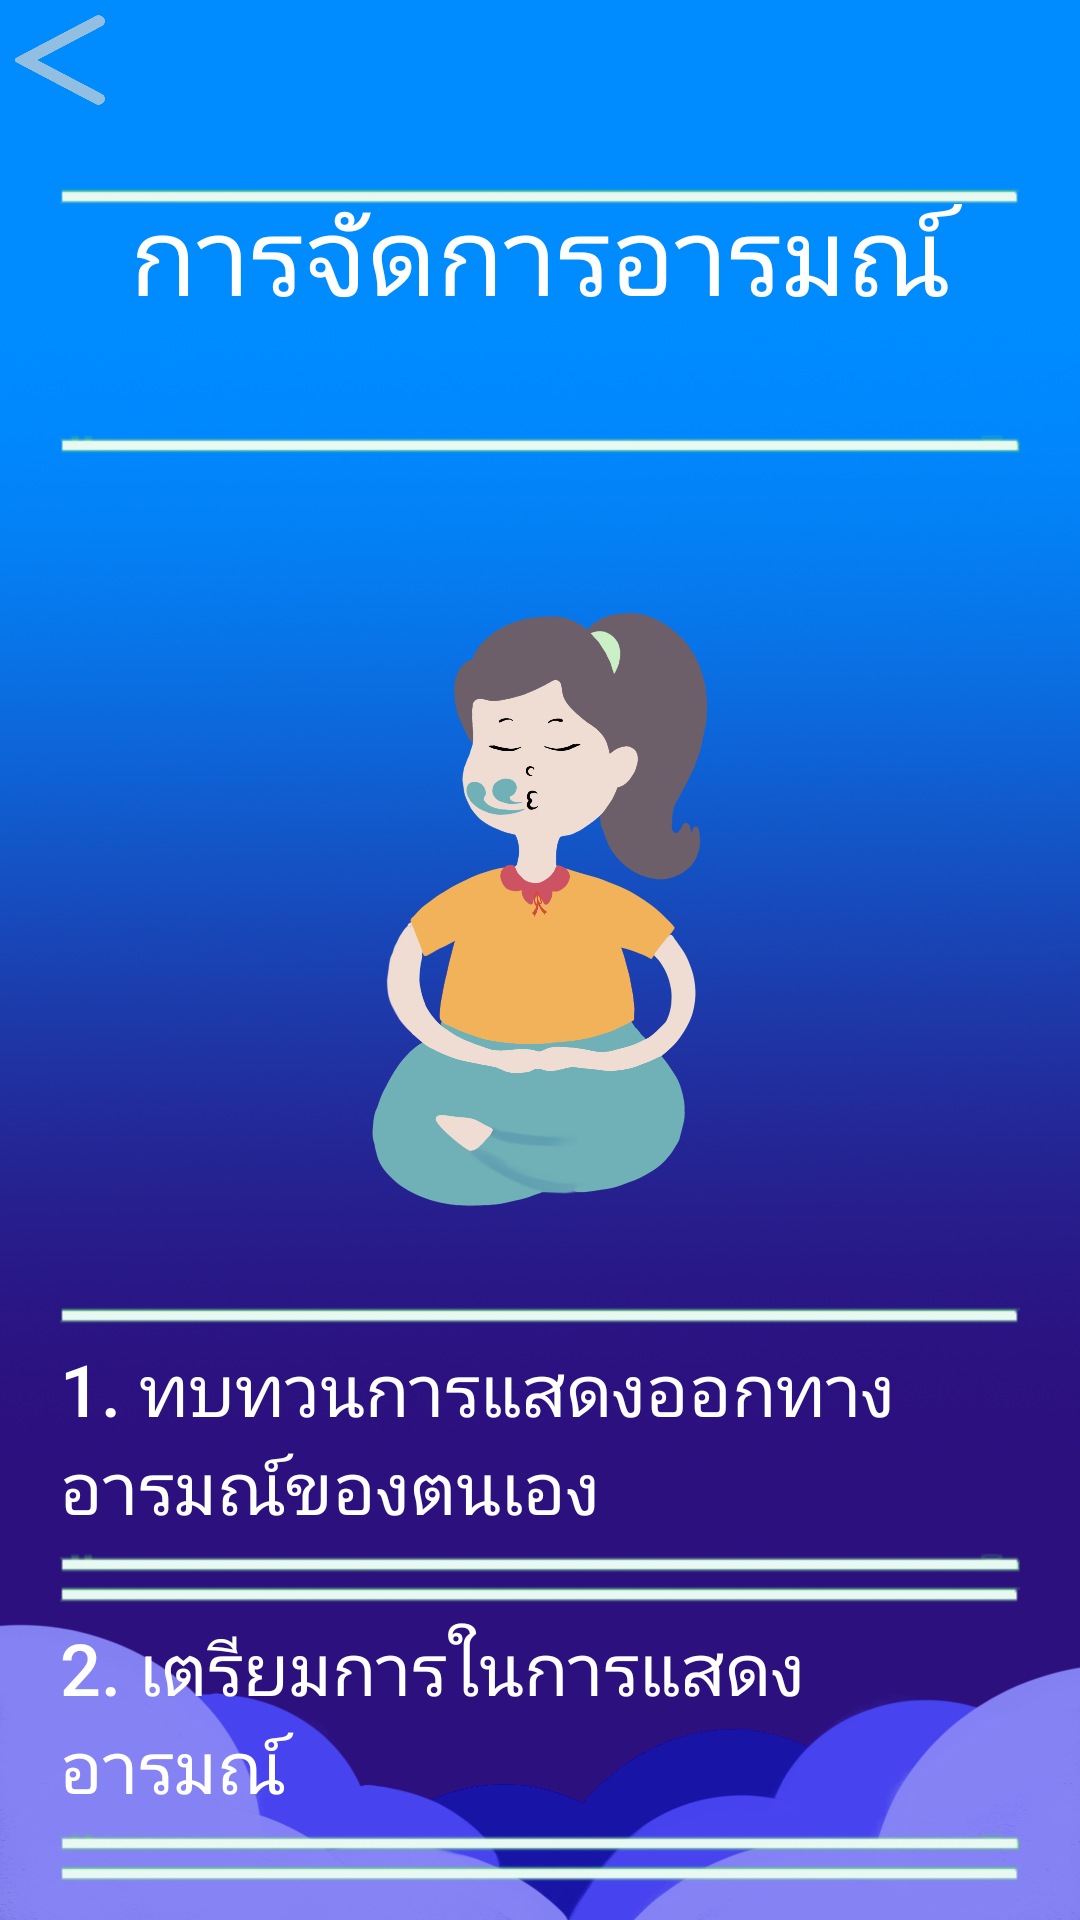

Locate icon controls on the screen. Image size 1080x1920, boxes as {"left": x1, "top": y1, "right": x2, "bottom": y2}.
backbut: {"left": 15, "top": 15, "right": 105, "bottom": 105}
